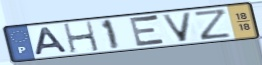1: (99, 18, 123, 51)
A: (34, 26, 70, 57)
E: (128, 13, 168, 48)
H: (61, 20, 101, 54)
V: (159, 11, 195, 43)
Z: (192, 7, 234, 41)
